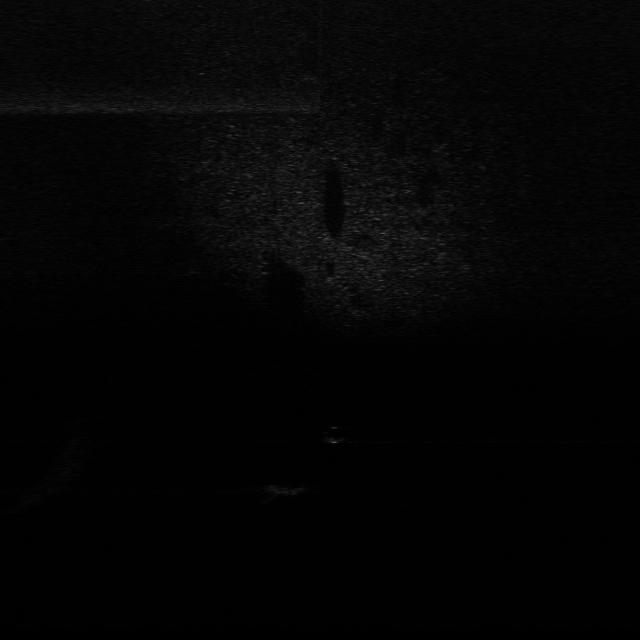ball: (320, 422, 350, 446)
square cage: (256, 478, 316, 498)
